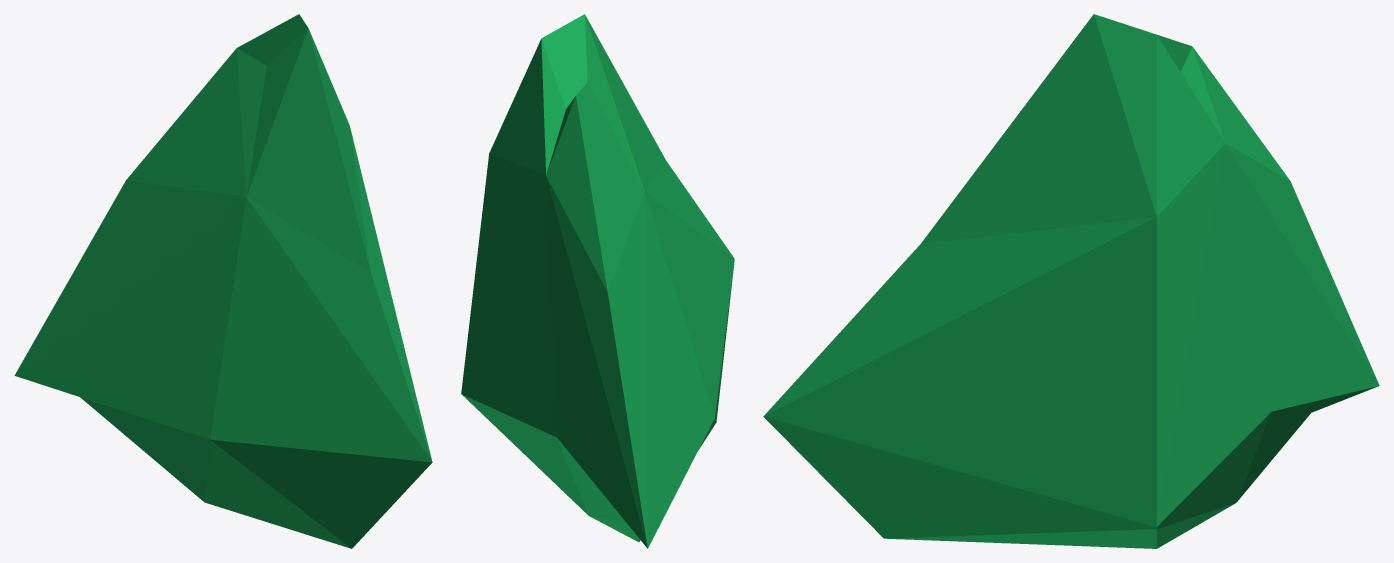
The model's file is SM_Emerald_Chipped.fbx.
The picture shows the model from 3 angles, left to right: view 1: azimuth 30°, elevation 25°; view 2: azimuth 150°, elevation 25°; view 3: azimuth 270°, elevation 25°; orthographic projection. The views are drawn at different scales.
Parts seen in each view (by area): view 1: SM_Emerald_Chipped; view 2: SM_Emerald_Chipped; view 3: SM_Emerald_Chipped.
Part boxes in pixels (x1=…): SM_Emerald_Chipped: x1=14, y1=14, x2=432, y2=548; SM_Emerald_Chipped: x1=461, y1=14, x2=734, y2=548; SM_Emerald_Chipped: x1=763, y1=14, x2=1379, y2=548.
Bounding box in the file's own units: 10.05 × 16.09 × 16.76.
